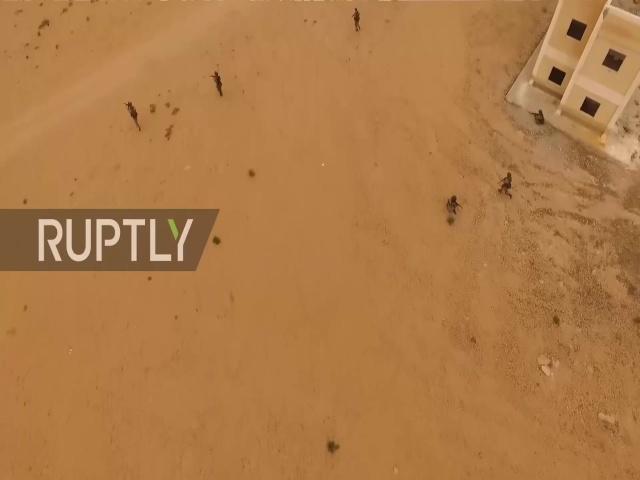person: (124, 99, 144, 135), (498, 171, 514, 201), (210, 69, 226, 99), (348, 5, 364, 33)
